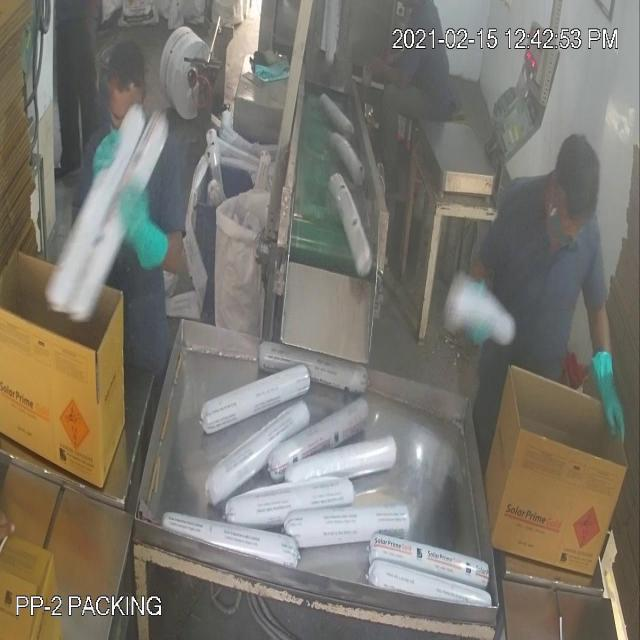Gloves: (43, 48, 611, 394)
